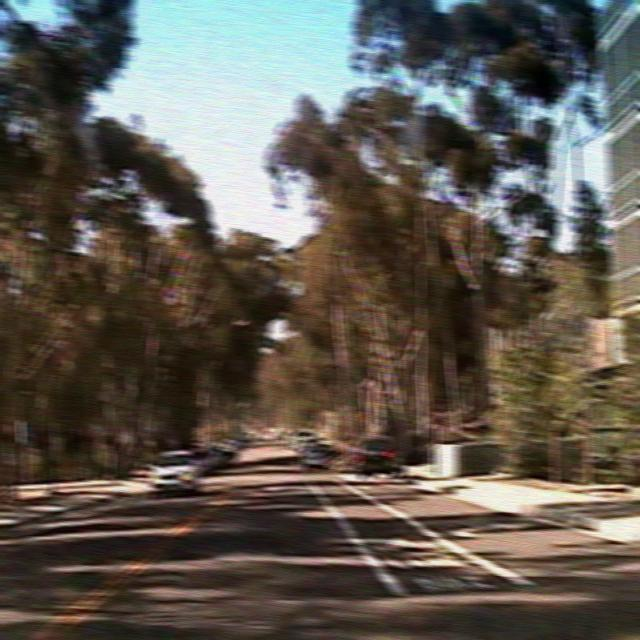stop: (429, 404, 446, 425)
